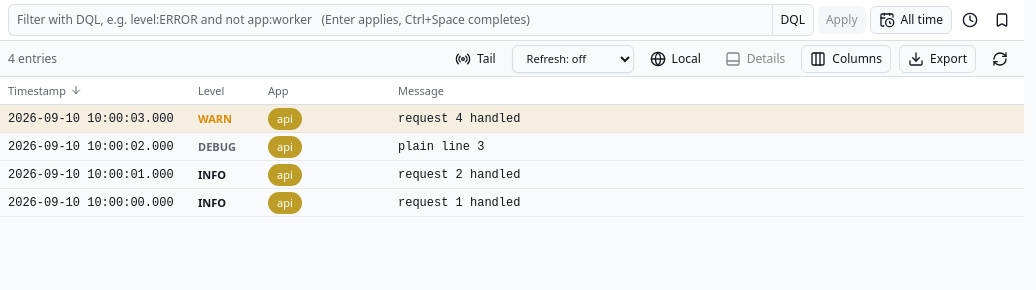
Test case: LogTable › refreshes the snapshot on demand
Click the button named "refresh" at (1000, 58), box [984,44,1016,72]
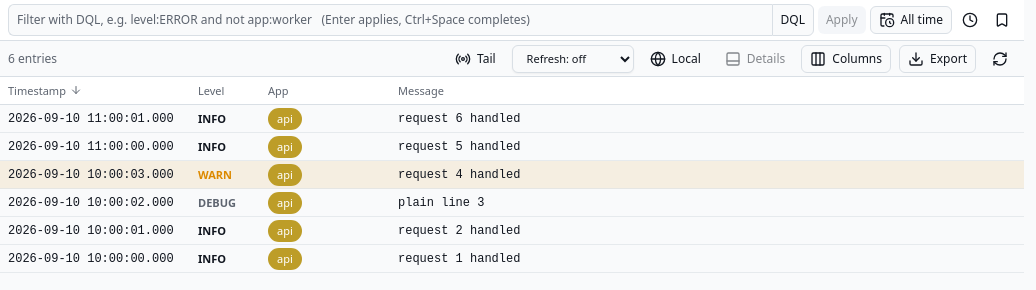
Expected: the text "6 entries" is shown, [8,50,57,66]
